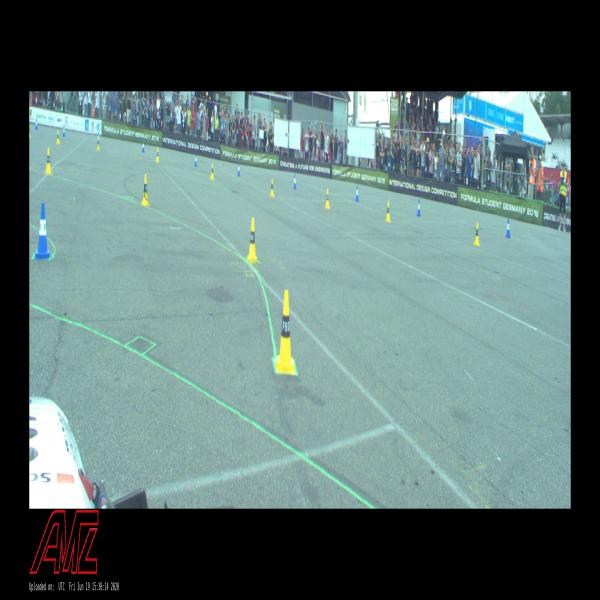blue_cone: (35, 202, 51, 260), (506, 218, 510, 239), (416, 198, 420, 217), (355, 185, 359, 202), (293, 173, 296, 190), (142, 140, 145, 153), (62, 125, 65, 137), (35, 118, 38, 130), (238, 162, 240, 176), (195, 154, 197, 166)
yellow_cone: (276, 290, 295, 371), (247, 219, 257, 262), (141, 173, 150, 207), (45, 147, 52, 175), (473, 222, 480, 246), (386, 200, 391, 222), (325, 188, 330, 210), (210, 163, 215, 180), (270, 177, 274, 197), (56, 130, 60, 144), (96, 136, 100, 150), (156, 147, 159, 163), (29, 124, 31, 138)
